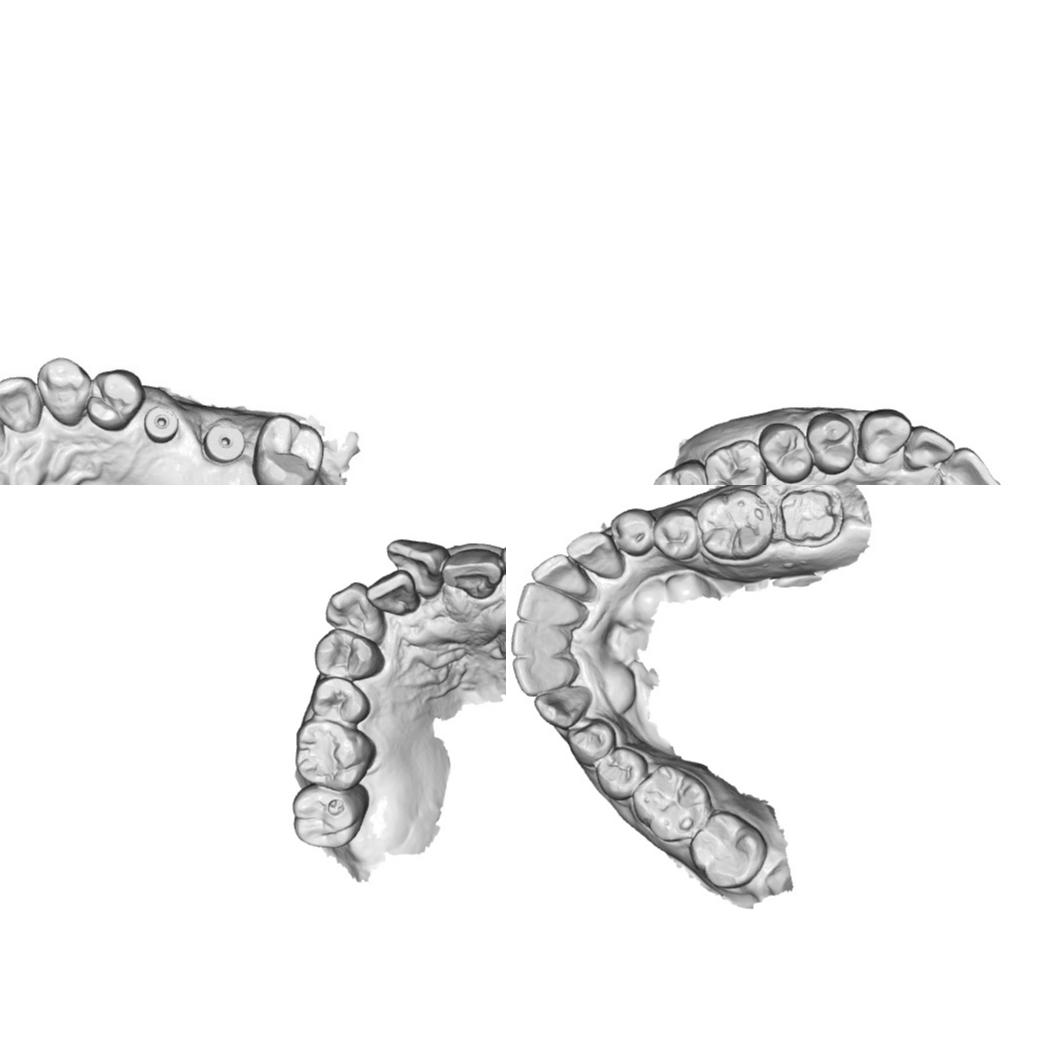canine: (38, 351, 92, 428), (324, 580, 386, 642), (562, 528, 625, 582), (856, 407, 913, 465), (532, 682, 593, 731)
crown: (776, 485, 848, 554)
implant: (196, 420, 246, 467), (143, 406, 176, 447)
incisor: (385, 538, 451, 599), (440, 546, 504, 601), (514, 579, 583, 627), (508, 653, 577, 698), (530, 552, 593, 598), (928, 446, 1002, 485), (507, 618, 572, 659), (364, 569, 420, 616), (902, 424, 956, 472), (0, 372, 37, 430)
molar: (693, 485, 777, 566), (630, 762, 714, 843), (687, 808, 768, 889), (294, 718, 376, 792), (252, 412, 327, 485), (290, 782, 370, 849), (703, 438, 767, 485), (650, 458, 715, 485)
premolar: (313, 628, 384, 680), (757, 422, 814, 484), (86, 368, 141, 431), (593, 743, 650, 803), (805, 411, 856, 475), (561, 714, 620, 768), (310, 675, 370, 725), (651, 506, 703, 563), (609, 505, 658, 558)
